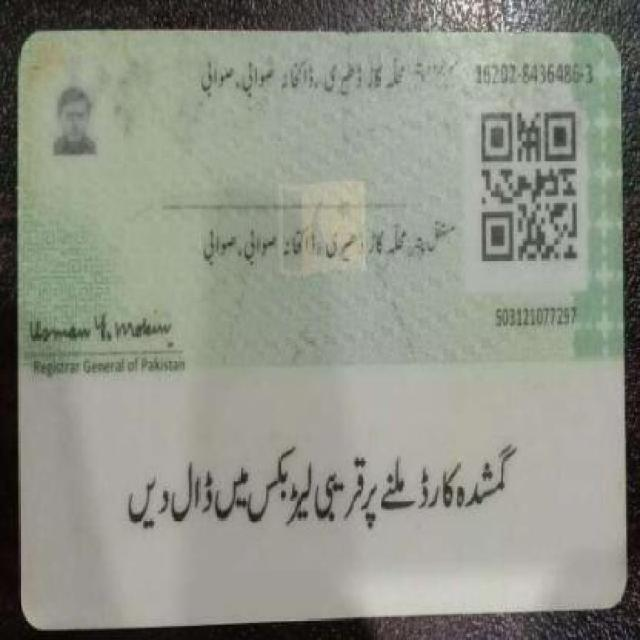Back: (12, 19, 632, 618)
